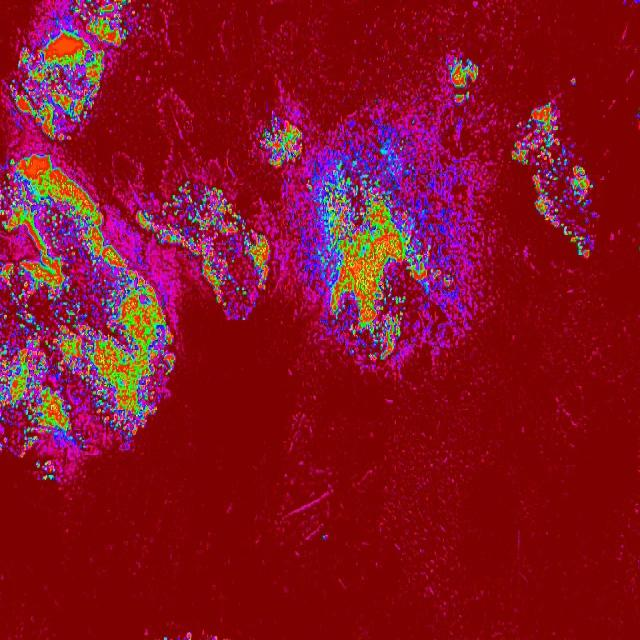fire: (306, 123, 460, 368), (0, 151, 104, 459), (10, 0, 141, 142), (138, 183, 269, 324), (510, 99, 598, 256), (102, 243, 138, 444), (139, 324, 175, 434), (258, 108, 304, 168), (448, 54, 481, 102), (34, 458, 57, 483), (634, 106, 640, 128), (568, 76, 578, 86), (322, 531, 328, 543), (143, 2, 151, 9), (186, 631, 192, 640), (210, 635, 219, 640), (163, 635, 169, 640)
